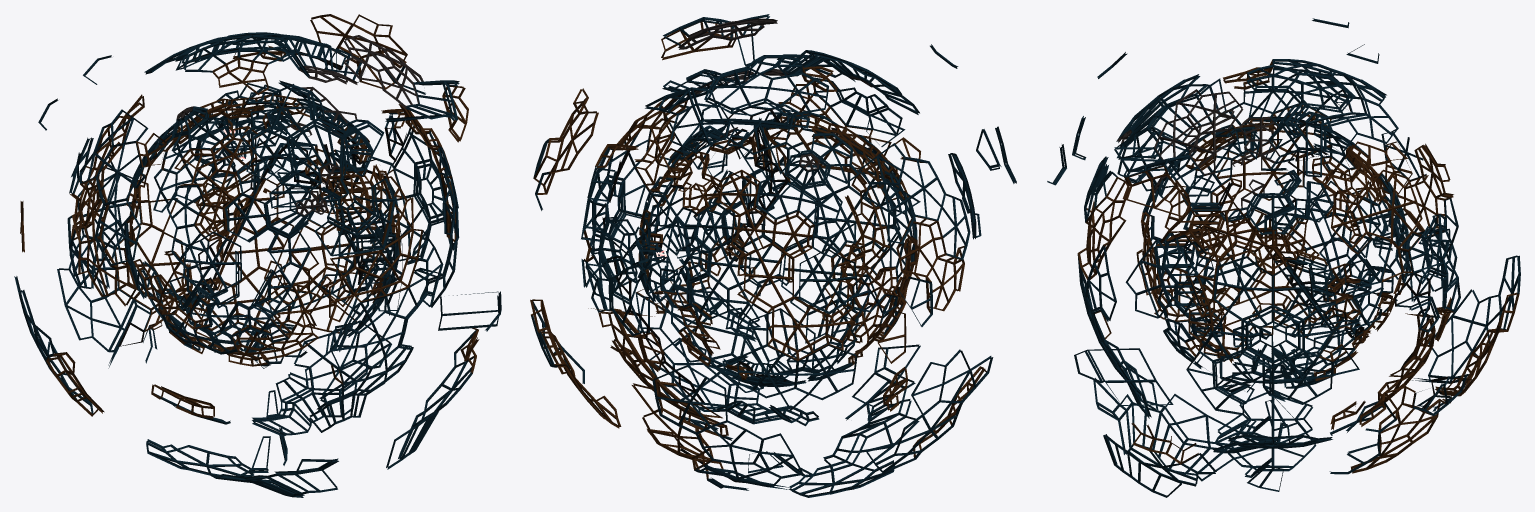
File: Planet1Dest5.glb
The picture shows the model from 3 angles, left to right: view 1: azimuth 30°, elevation 25°; view 2: azimuth 150°, elevation 25°; view 3: azimuth 270°, elevation 25°; orthographic projection.
Parts seen in each view (by area): view 1: Icosphere.028; view 2: Icosphere.028; view 3: Icosphere.028.
Boxes of the visible parts, <box> form: Icosphere.028: <box>14,14,501,497</box>; Icosphere.028: <box>530,14,1016,497</box>; Icosphere.028: <box>1047,18,1520,497</box>.
Size of the model in its own units: 2.38 by 2.35 by 2.39.
